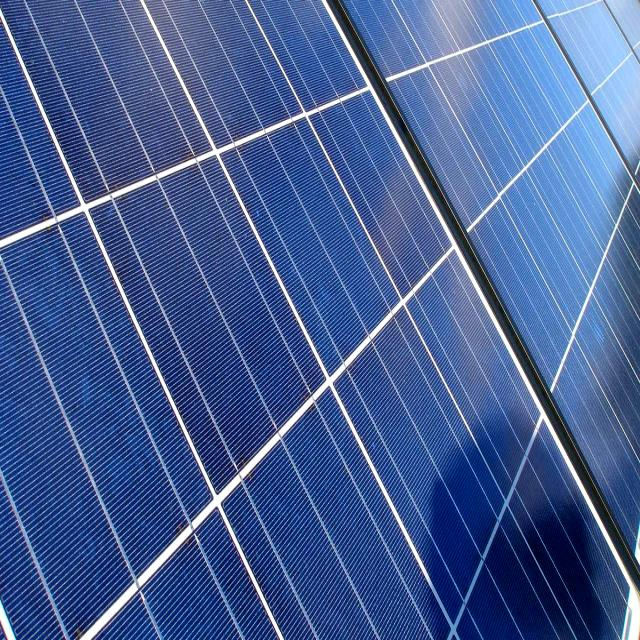crack: (86, 141, 344, 523), (202, 79, 426, 414)
